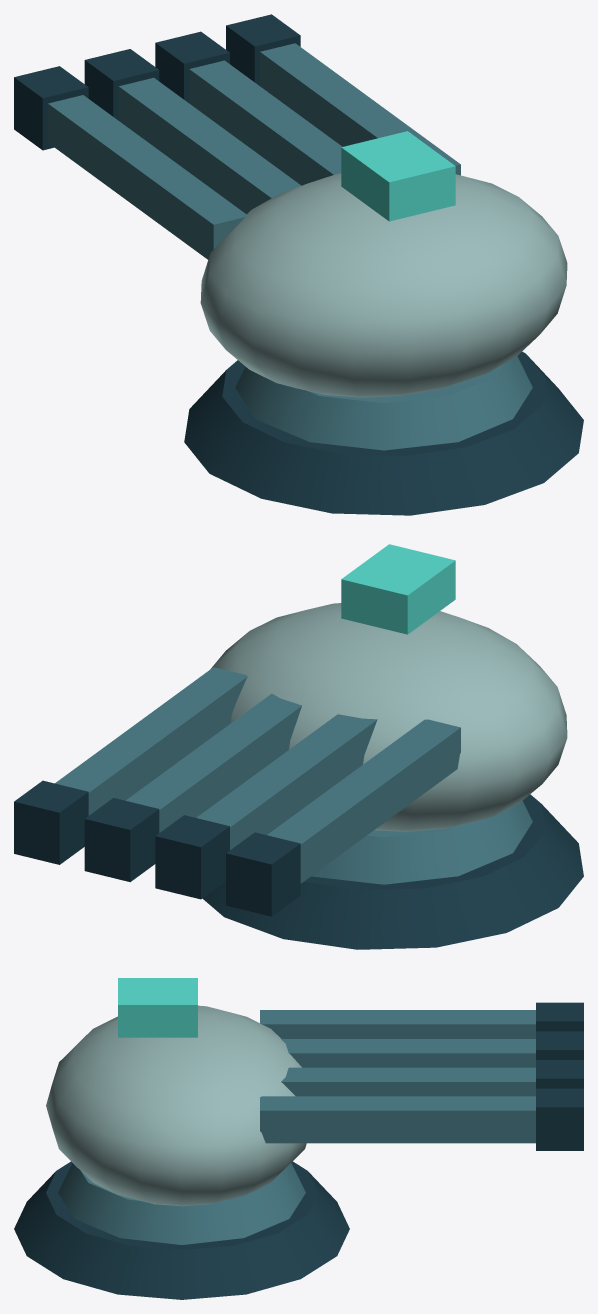
Rendered from pelagic_high_pressure--point_defense.glb.
3 renders of one model, top to bottom at view 1: azimuth 30°, elevation 25°; view 2: azimuth 150°, elevation 25°; view 3: azimuth 270°, elevation 25°, orthographic. The views are drawn at different scales.
Parts seen in each view (by area): view 1: pressure_module_housing_3, mount_adapter_1, rotation_bearing_2, weapon_barrel_4, weapon_barrel_6, weapon_barrel_8, weapon_barrel_10, targeting_unit_12, muzzle_5, muzzle_7, muzzle_9, muzzle_11; view 2: pressure_module_housing_3, mount_adapter_1, weapon_barrel_4, weapon_barrel_10, weapon_barrel_6, weapon_barrel_8, rotation_bearing_2, targeting_unit_12, muzzle_5, muzzle_9, muzzle_11, muzzle_7; view 3: pressure_module_housing_3, mount_adapter_1, weapon_barrel_10, rotation_bearing_2, weapon_barrel_4, weapon_barrel_8, weapon_barrel_6, targeting_unit_12, muzzle_11, muzzle_5, muzzle_7, muzzle_9.
Boxes of the visible parts, x1=… form: pressure_module_housing_3: x1=200, y1=173, x2=567, y2=397; mount_adapter_1: x1=184, y1=351, x2=583, y2=515; rotation_bearing_2: x1=235, y1=356, x2=532, y2=450; weapon_barrel_4: x1=48, y1=95, x2=247, y2=259; weapon_barrel_6: x1=118, y1=77, x2=301, y2=214; weapon_barrel_8: x1=189, y1=60, x2=342, y2=185; weapon_barrel_10: x1=260, y1=43, x2=460, y2=175; targeting_unit_12: x1=341, y1=131, x2=455, y2=221; muzzle_5: x1=14, y1=66, x2=88, y2=150; muzzle_7: x1=84, y1=49, x2=159, y2=120; muzzle_9: x1=155, y1=31, x2=229, y2=102; muzzle_11: x1=226, y1=14, x2=300, y2=85; pressure_module_housing_3: x1=210, y1=603, x2=567, y2=831; mount_adapter_1: x1=202, y1=794, x2=583, y2=949; weapon_barrel_4: x1=267, y1=719, x2=460, y2=883; weapon_barrel_10: x1=55, y1=667, x2=247, y2=815; weapon_barrel_6: x1=196, y1=714, x2=377, y2=849; weapon_barrel_8: x1=126, y1=693, x2=301, y2=832; rotation_bearing_2: x1=311, y1=801, x2=532, y2=884; targeting_unit_12: x1=341, y1=544, x2=455, y2=634; muzzle_5: x1=226, y1=832, x2=300, y2=916; muzzle_9: x1=84, y1=798, x2=159, y2=882; muzzle_11: x1=14, y1=780, x2=88, y2=864; muzzle_7: x1=155, y1=815, x2=229, y2=899; pressure_module_housing_3: x1=46, y1=1005, x2=306, y2=1206; mount_adapter_1: x1=14, y1=1161, x2=349, y2=1299; weapon_barrel_10: x1=260, y1=1096, x2=535, y2=1143; rotation_bearing_2: x1=58, y1=1163, x2=305, y2=1244; weapon_barrel_4: x1=260, y1=1010, x2=535, y2=1038; weapon_barrel_8: x1=281, y1=1067, x2=535, y2=1096; weapon_barrel_6: x1=281, y1=1039, x2=535, y2=1067; targeting_unit_12: x1=118, y1=978, x2=197, y2=1037; muzzle_11: x1=536, y1=1088, x2=583, y2=1150; muzzle_5: x1=536, y1=1002, x2=583, y2=1031; muzzle_7: x1=536, y1=1031, x2=583, y2=1059; muzzle_9: x1=536, y1=1060, x2=583, y2=1088.
Bounding box in the file's own units: 5.04 × 3.93 × 8.55.
